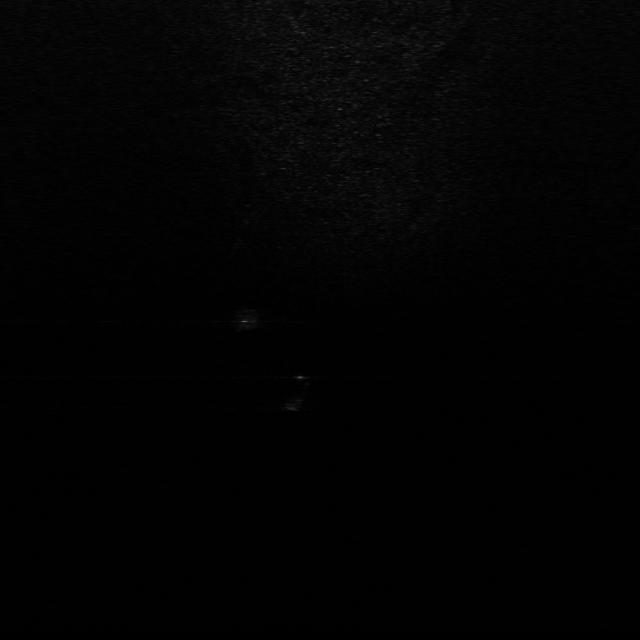circle cage: (222, 301, 267, 335)
tyre: (273, 371, 322, 412)
